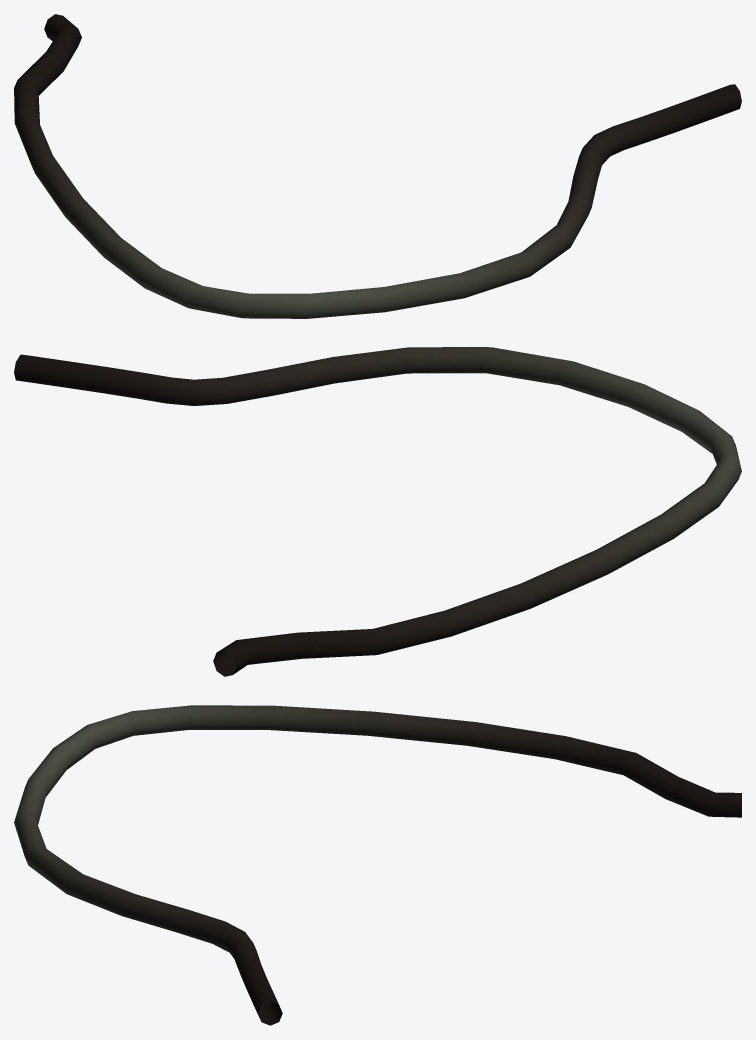
Rendered from 2MCableCorner.fbx.
3 renders of one model, top to bottom at view 1: azimuth 30°, elevation 25°; view 2: azimuth 150°, elevation 25°; view 3: azimuth 270°, elevation 25°, orthographic. The views are drawn at different scales.
Parts seen in each view (by area): view 1: CableDirectionChanger; view 2: CableDirectionChanger; view 3: CableDirectionChanger.
Boxes of the visible parts, x1,y1,x2,y2 form: CableDirectionChanger: (14, 14, 741, 318); CableDirectionChanger: (14, 347, 741, 676); CableDirectionChanger: (14, 705, 741, 1025).
Bounding box in the file's own units: 145 × 5.45 × 148.
